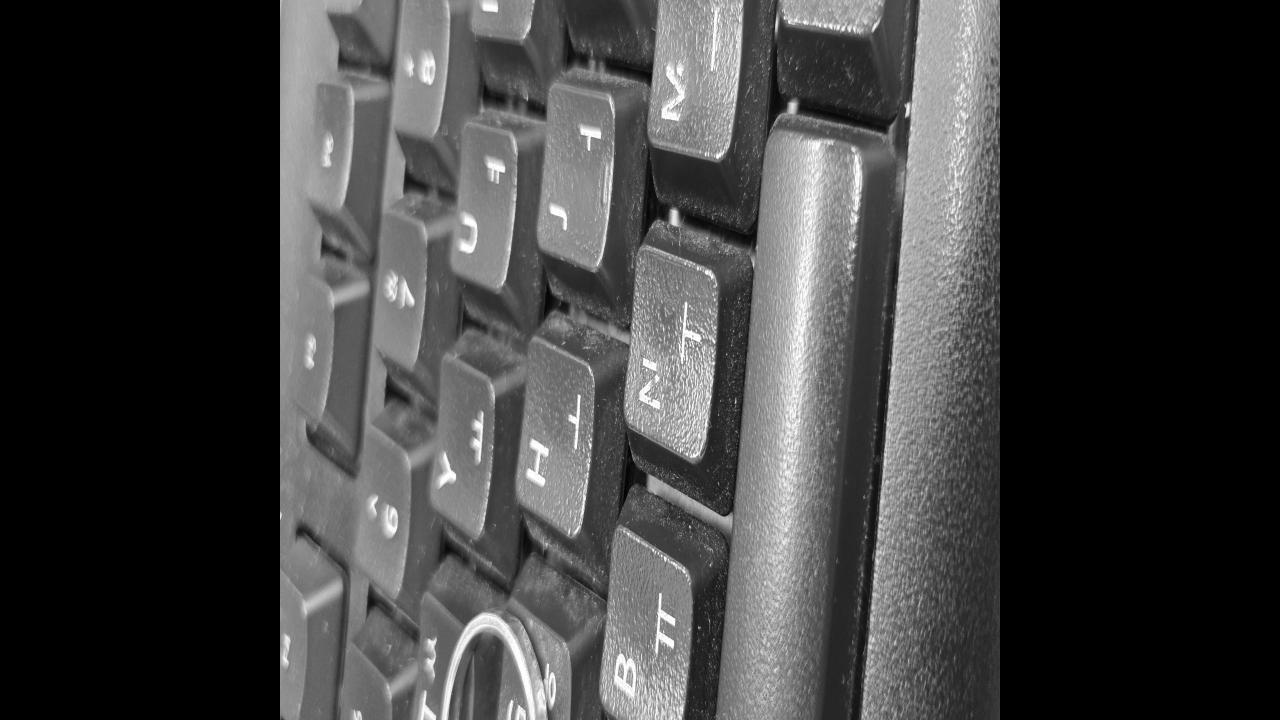ring: (438, 607, 549, 720)
